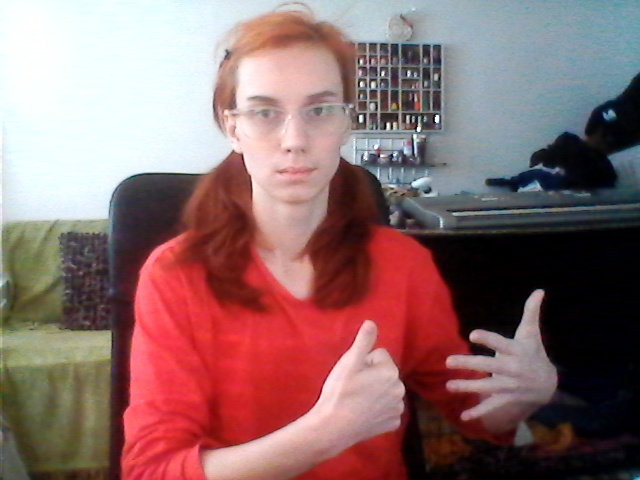sest: (332, 283, 558, 448)
